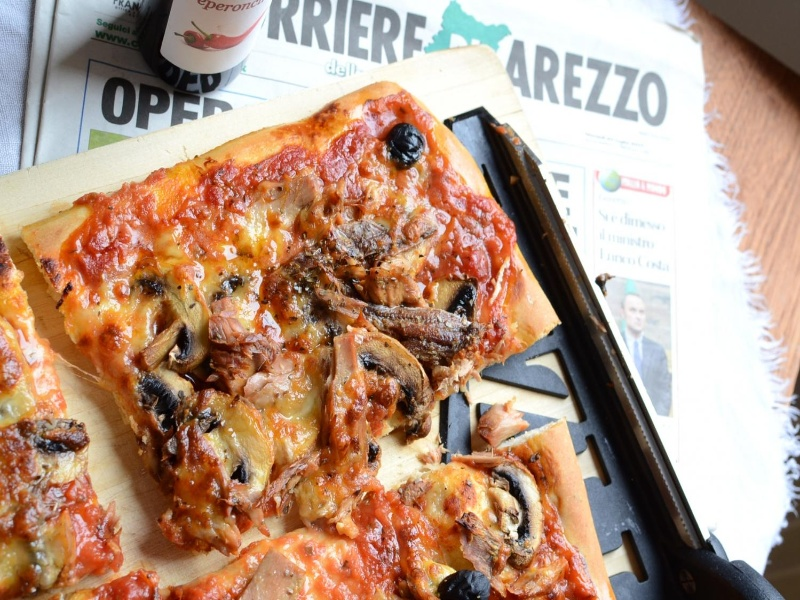champignon: (179, 390, 273, 503), (488, 460, 548, 566), (138, 284, 209, 371), (356, 332, 432, 413)
